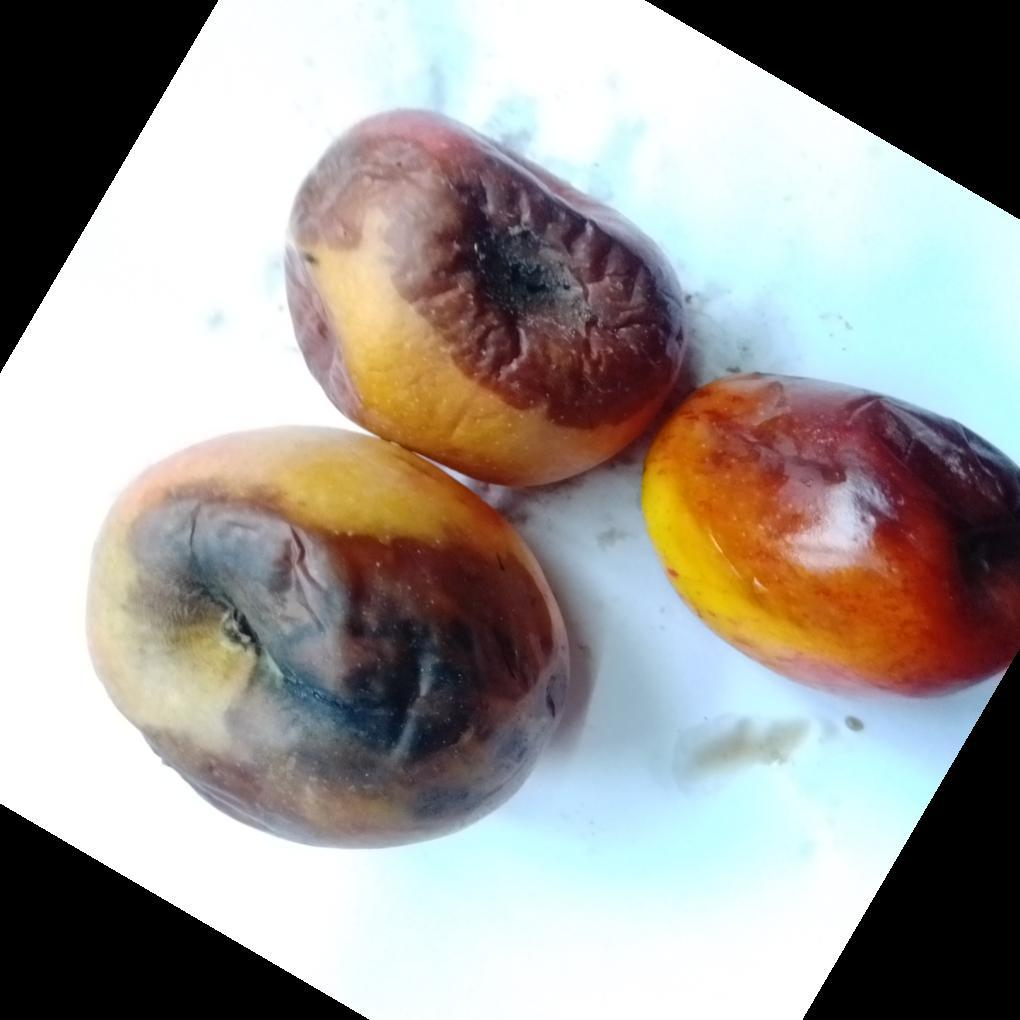FreshOrange: (85, 111, 1020, 852)
